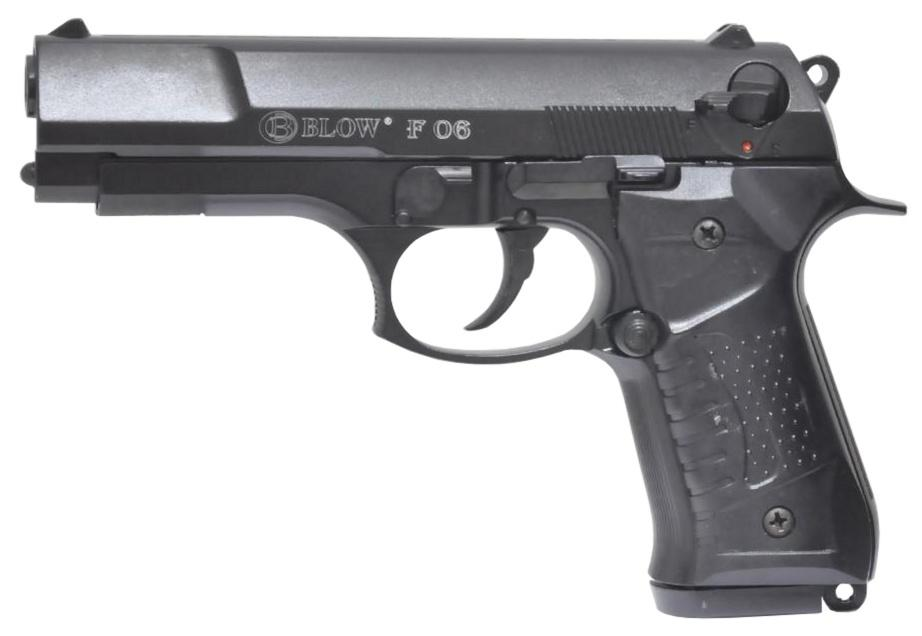gun: (11, 6, 895, 636)
